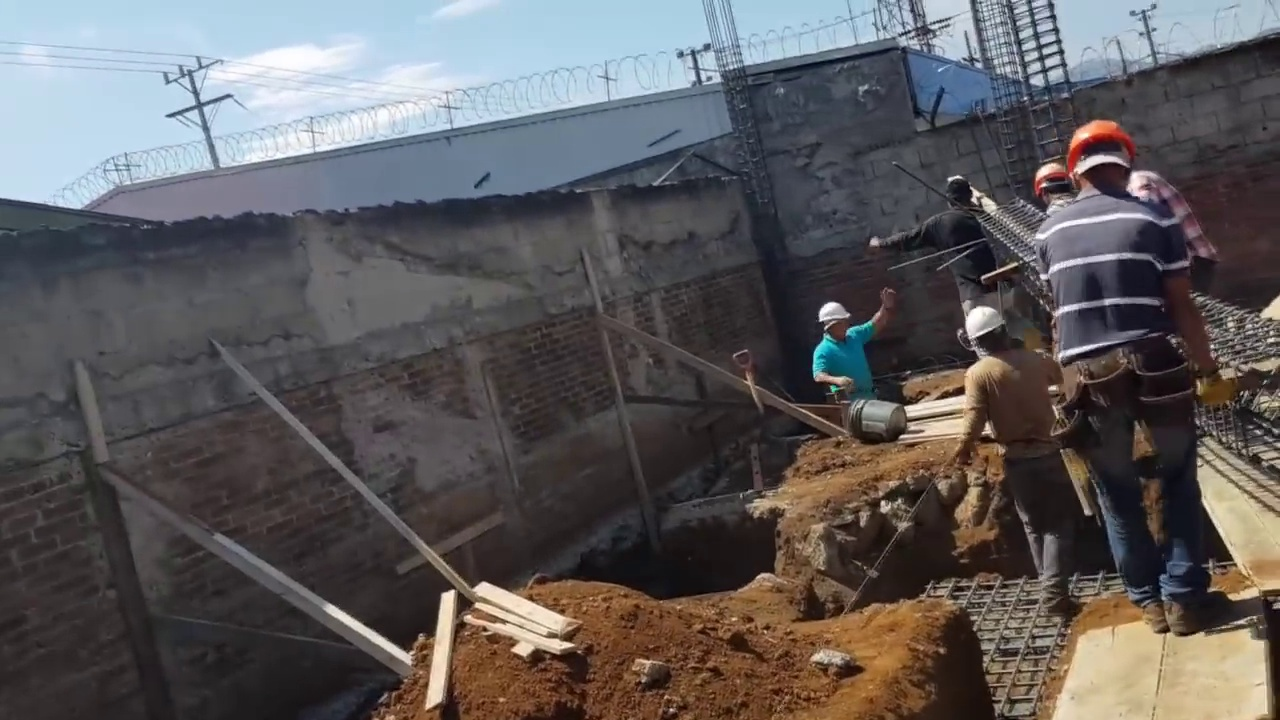helmet: (1068, 121, 1137, 170), (965, 305, 1006, 343), (1036, 162, 1076, 199), (818, 302, 853, 329)
helmet-off: (953, 173, 984, 208)
helmet-on: (1067, 117, 1141, 205), (967, 307, 1024, 362), (1035, 157, 1079, 215), (819, 302, 853, 344)
person: (1048, 112, 1227, 637), (952, 311, 1095, 621), (869, 172, 1007, 361), (1129, 163, 1223, 294), (814, 289, 902, 393)
